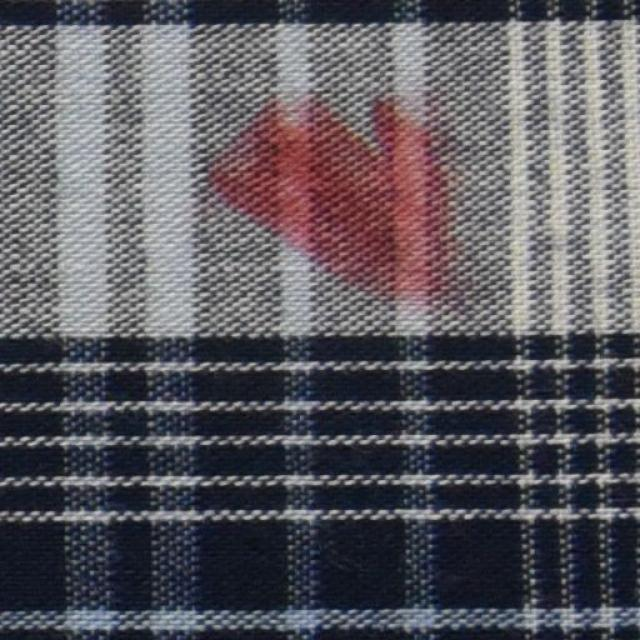Stain: (213, 101, 459, 319)
